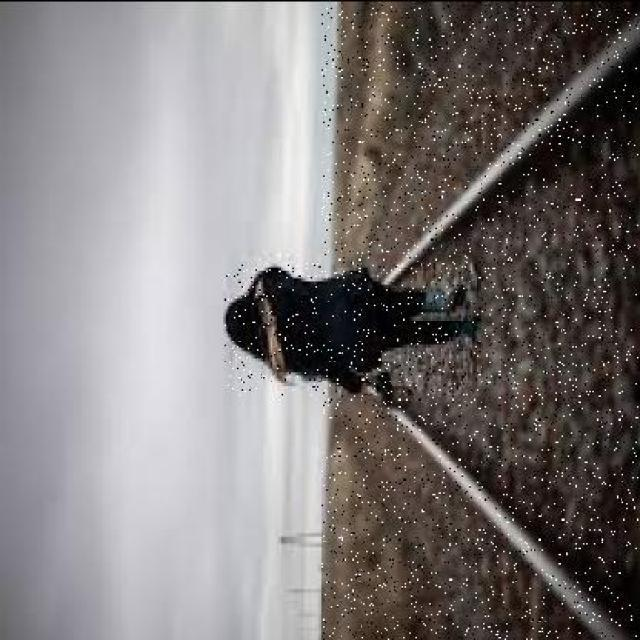danger: (224, 261, 480, 394)
rail: (322, 3, 640, 640)
